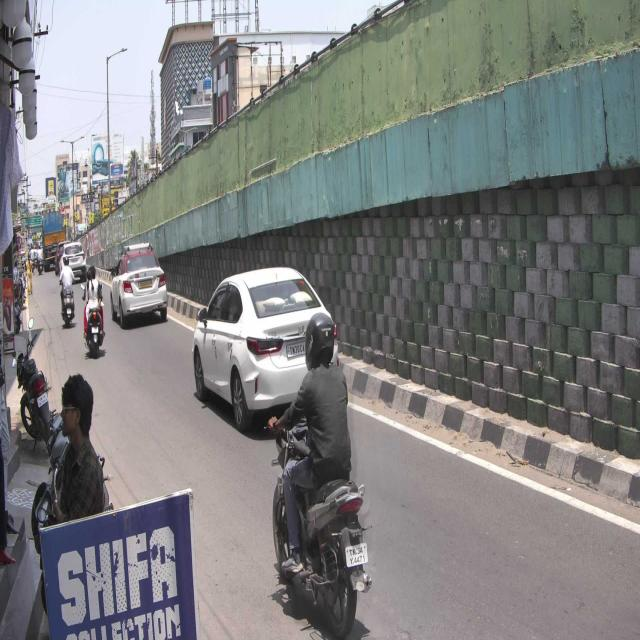single_rider: (266, 310, 372, 640)
